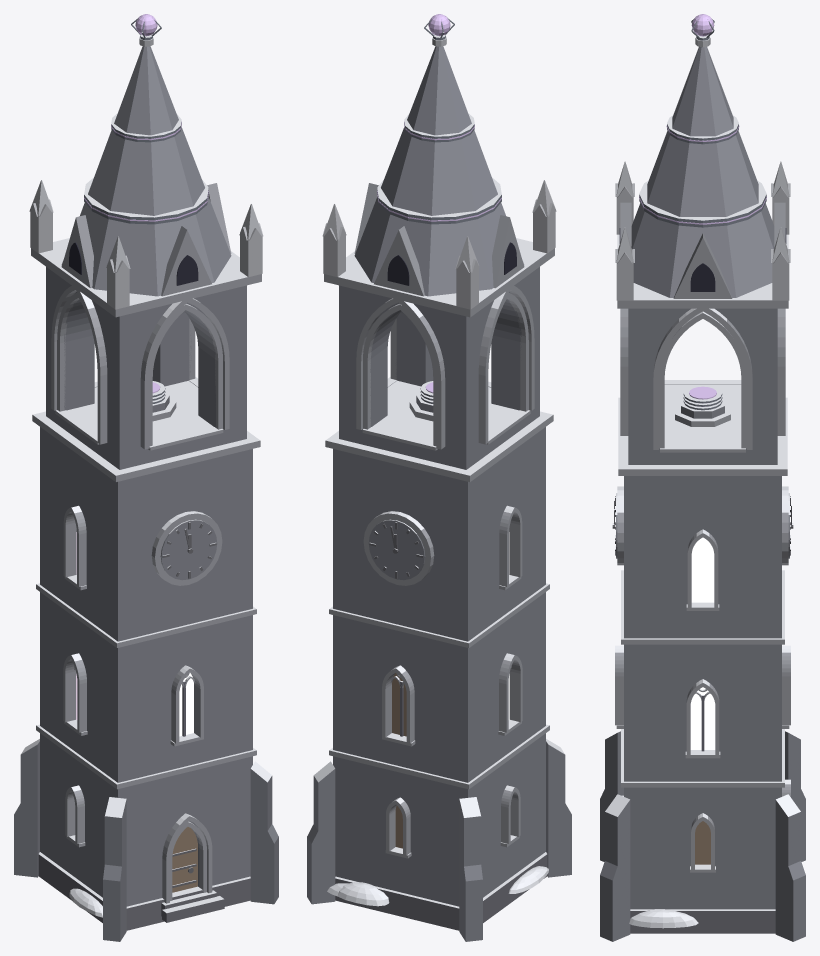
File: AR_Campanario_Ressonancia.fbx
The picture shows the model from 3 angles, left to right: view 1: azimuth 30°, elevation 25°; view 2: azimuth 150°, elevation 25°; view 3: azimuth 270°, elevation 25°; orthographic projection.
Visible parts, largest first — view 1: AR_Campanario_Ressonancia; view 2: AR_Campanario_Ressonancia; view 3: AR_Campanario_Ressonancia.
Boxes of the visible parts, x1,y1,x2,y2 form: AR_Campanario_Ressonancia: (14,14,278,941); AR_Campanario_Ressonancia: (307,14,571,941); AR_Campanario_Ressonancia: (600,14,805,941).
Bounding box in the file's own units: 9.12 × 43.17 × 9.12.
